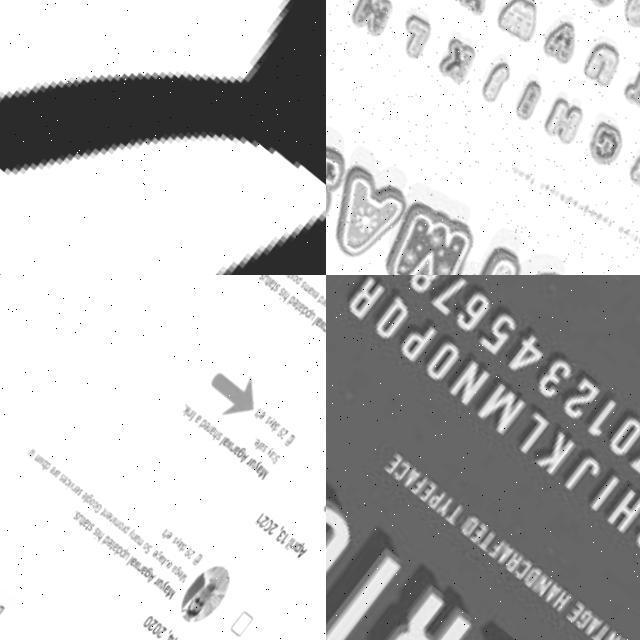0: (598, 410, 640, 455), (566, 0, 636, 17), (141, 619, 156, 634), (132, 612, 147, 627), (254, 515, 269, 530)
1: (577, 392, 620, 436), (247, 510, 260, 523), (272, 529, 284, 543), (158, 633, 171, 640)
2: (552, 371, 600, 420), (145, 622, 160, 638), (136, 616, 151, 631), (259, 519, 274, 534), (250, 511, 265, 526), (178, 546, 189, 558), (274, 426, 284, 437)
3: (525, 349, 573, 399), (266, 525, 281, 540)
4: (499, 326, 549, 376), (153, 629, 168, 640)
5: (471, 304, 521, 354)
6: (446, 284, 494, 333)
7: (424, 275, 471, 314)
8: (400, 275, 448, 295)
9: (601, 0, 640, 40), (174, 543, 186, 556), (270, 423, 281, 435)
K: (0, 0, 326, 275)
